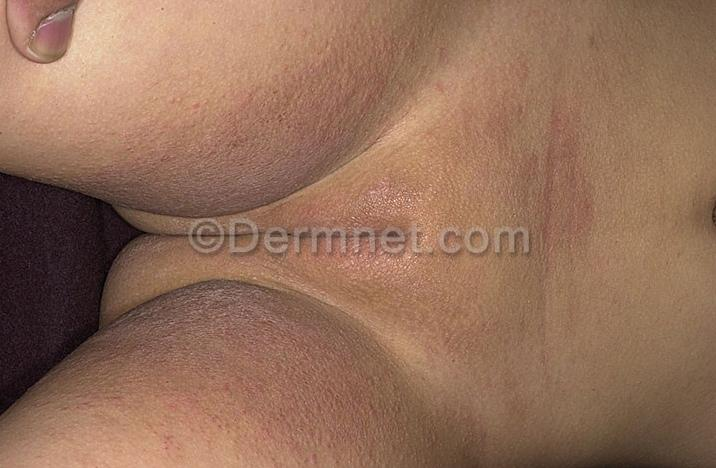edema 1: (93, 47, 537, 406)
xerosis 3: (86, 51, 542, 410)
